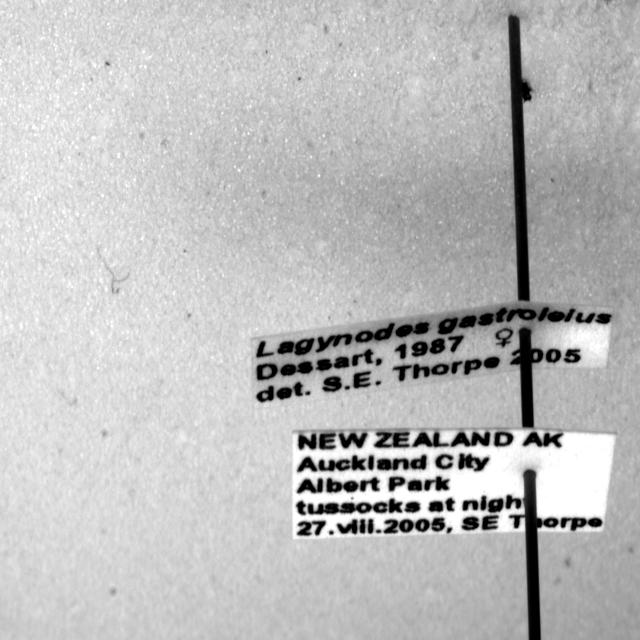typed_label: (251, 300, 612, 405), (292, 428, 615, 538)
